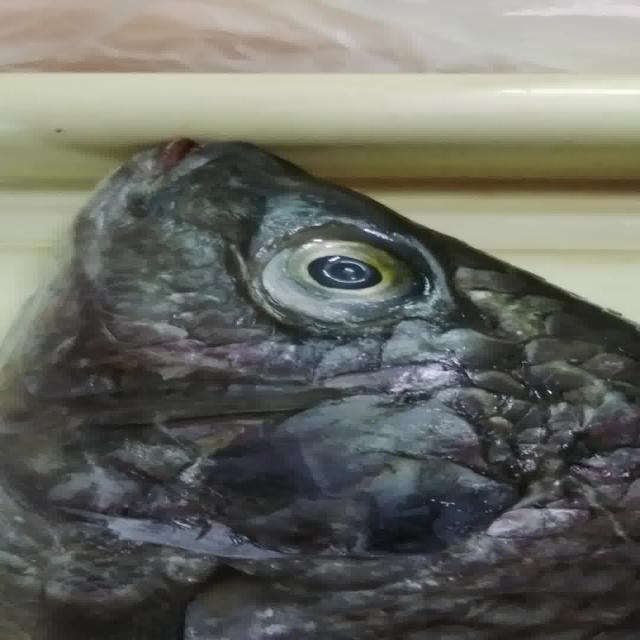Non-Fresh: (259, 213, 442, 334)
